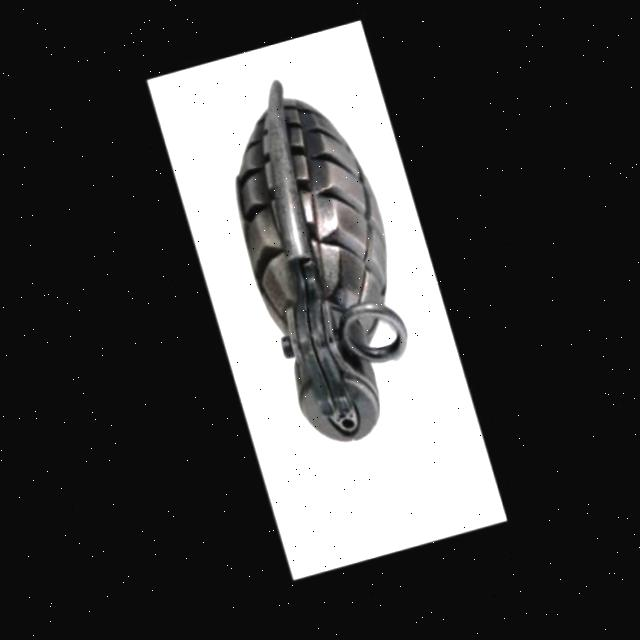grenade: (193, 44, 448, 480)
